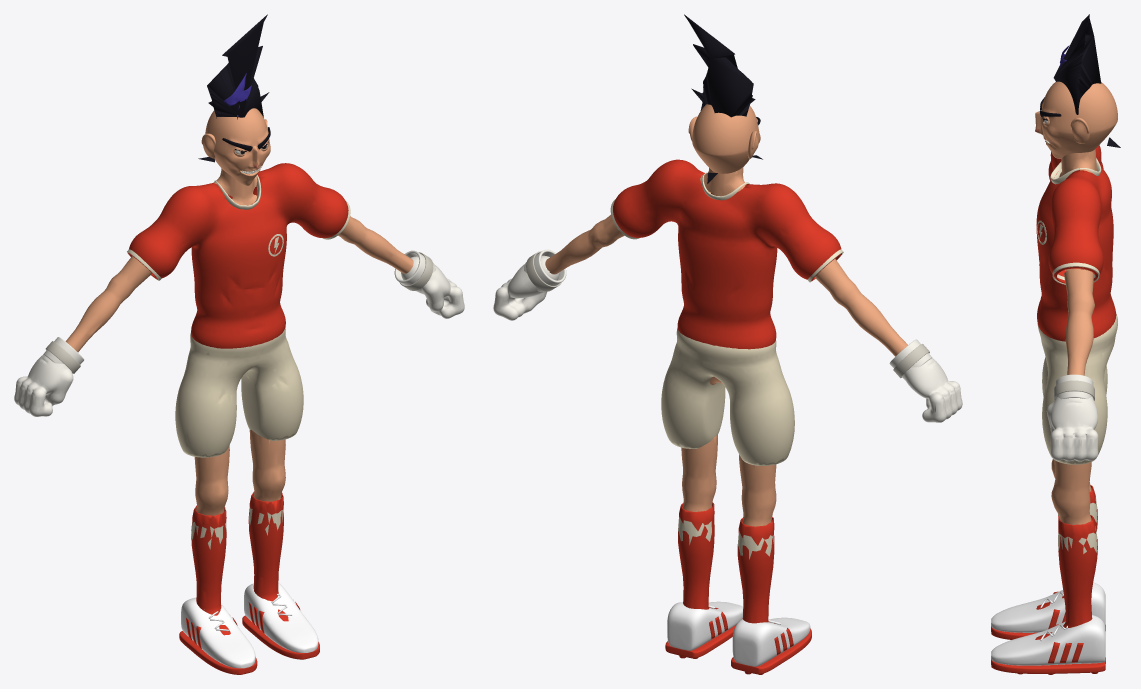
The model's file is CH_Fulmine_mixamo.fbx.
The picture shows the model from 3 angles, left to right: view 1: azimuth 30°, elevation 25°; view 2: azimuth 150°, elevation 25°; view 3: azimuth 270°, elevation 25°; orthographic projection. The views are drawn at different scales.
Parts seen in each view (by area): view 1: CH_Fulmine_Body_LOD0; view 2: CH_Fulmine_Body_LOD0; view 3: CH_Fulmine_Body_LOD0.
Boxes of the visible parts, x1,y1,x2,y2 form: CH_Fulmine_Body_LOD0: (14,14,464,674); CH_Fulmine_Body_LOD0: (493,14,962,674); CH_Fulmine_Body_LOD0: (991,14,1120,674).
Size of the model in its own units: 159 by 214 by 40.24.
